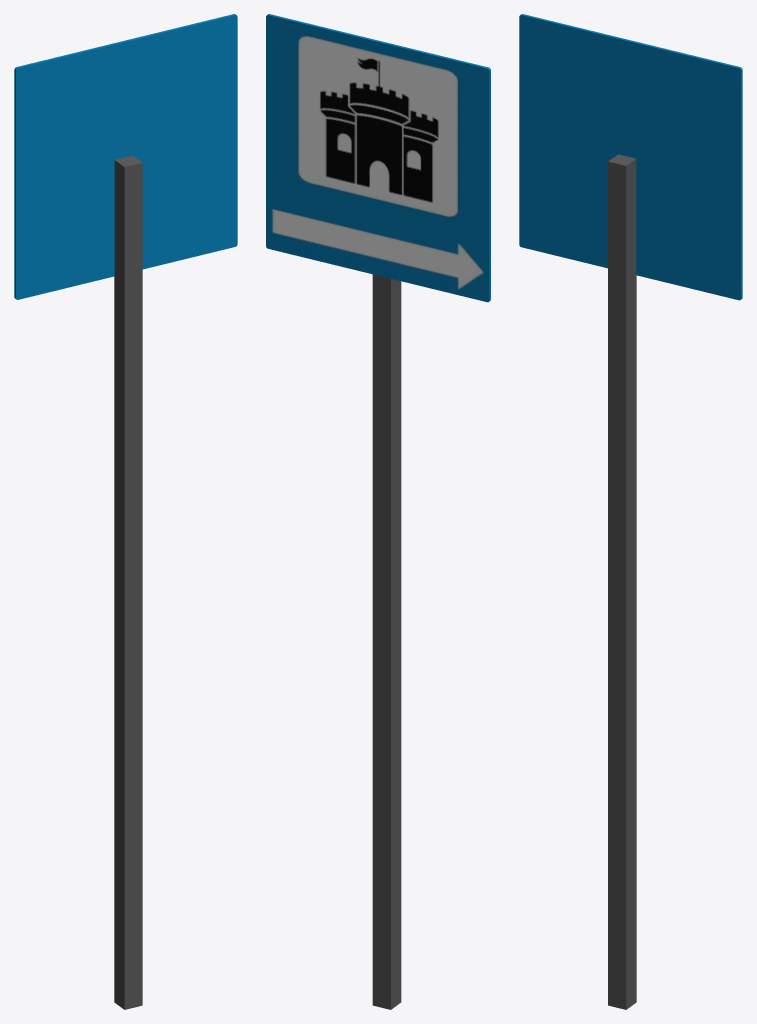
File: PlacaQuadrada.fbx
3 views of the same model, side by side, from view 1: azimuth 30°, elevation 25°; view 2: azimuth 150°, elevation 25°; view 3: azimuth 330°, elevation 25° (orthographic).
Visible parts, largest first — view 1: PlacaQuadrada; view 2: PlacaQuadrada; view 3: PlacaQuadrada.
Part boxes in pixels (x1,y1,x2,y2): PlacaQuadrada: (14, 14, 237, 1009); PlacaQuadrada: (266, 14, 490, 1009); PlacaQuadrada: (519, 14, 742, 1009).
Bounding box in the file's own units: 200 × 827 × 17.98.
